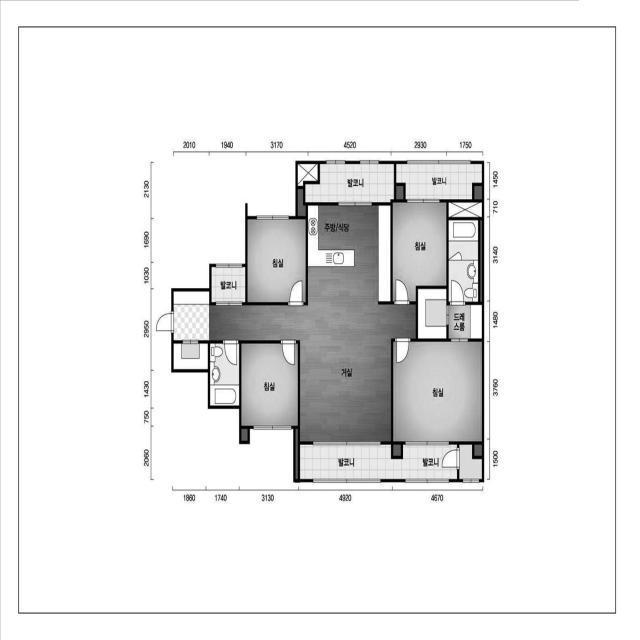space_balconi: (300, 445, 456, 479), (306, 164, 394, 202), (397, 164, 481, 199), (210, 344, 239, 405), (212, 267, 245, 302)
space_bedroom: (393, 342, 481, 441), (393, 203, 446, 301), (248, 220, 305, 302), (241, 343, 297, 425)
space_dressroom: (418, 290, 482, 339)
space_front: (173, 292, 209, 369)
space_kitchen: (308, 206, 390, 304)
space_living_room: (210, 305, 415, 441)
space_other: (297, 164, 318, 216), (459, 445, 482, 479), (449, 202, 482, 217), (480, 221, 482, 301), (474, 186, 482, 199), (296, 429, 298, 479), (396, 186, 403, 199), (393, 445, 401, 456), (241, 429, 248, 441)
space_toilet: (449, 220, 478, 301)
